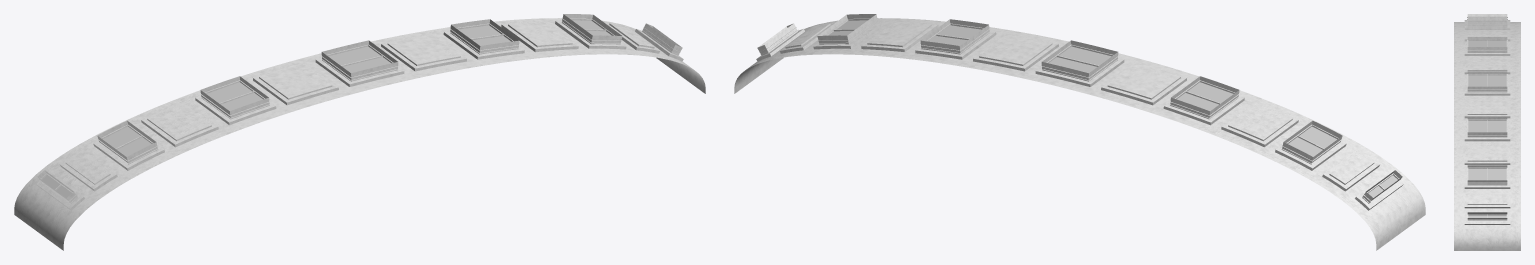
3 renders of one model, left to right at view 1: azimuth 30°, elevation 25°; view 2: azimuth 150°, elevation 25°; view 3: azimuth 270°, elevation 25°, orthographic. The views are drawn at different scales.
Visible parts, largest first — view 1: M_C_201_d_24x3, M_C_201_d_24x3_glass; view 2: M_C_201_d_24x3, M_C_201_d_24x3_glass; view 3: M_C_201_d_24x3, M_C_201_d_24x3_glass.
Boxes of the visible parts, <box> form: M_C_201_d_24x3: <box>14,14,705,250</box>; M_C_201_d_24x3_glass: <box>42,20,611,197</box>; M_C_201_d_24x3: <box>734,14,1425,250</box>; M_C_201_d_24x3_glass: <box>828,20,1397,197</box>; M_C_201_d_24x3: <box>1454,14,1520,250</box>; M_C_201_d_24x3_glass: <box>1468,21,1506,217</box>.
Bounding box in the file's own units: 24 × 3.5 × 3.2.
